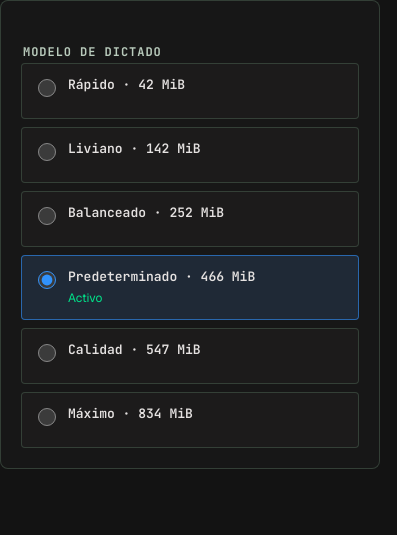
Scenario: ModelSelector › preserves the previous active profile when activation fails
Click the radio button labelled "Liviano · 142 MiB": (47, 152) x1=38 y1=143 x2=56 y2=161
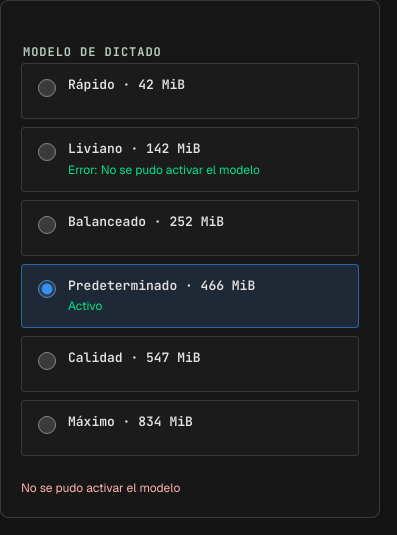
Expected: the radio button labelled "Predeterminado · 466 MiB Activo" is checked, x1=38 y1=280 x2=56 y2=298
Expected: the text "No se pudo activar el modelo" is shown, x1=21 y1=480 x2=180 y2=496
